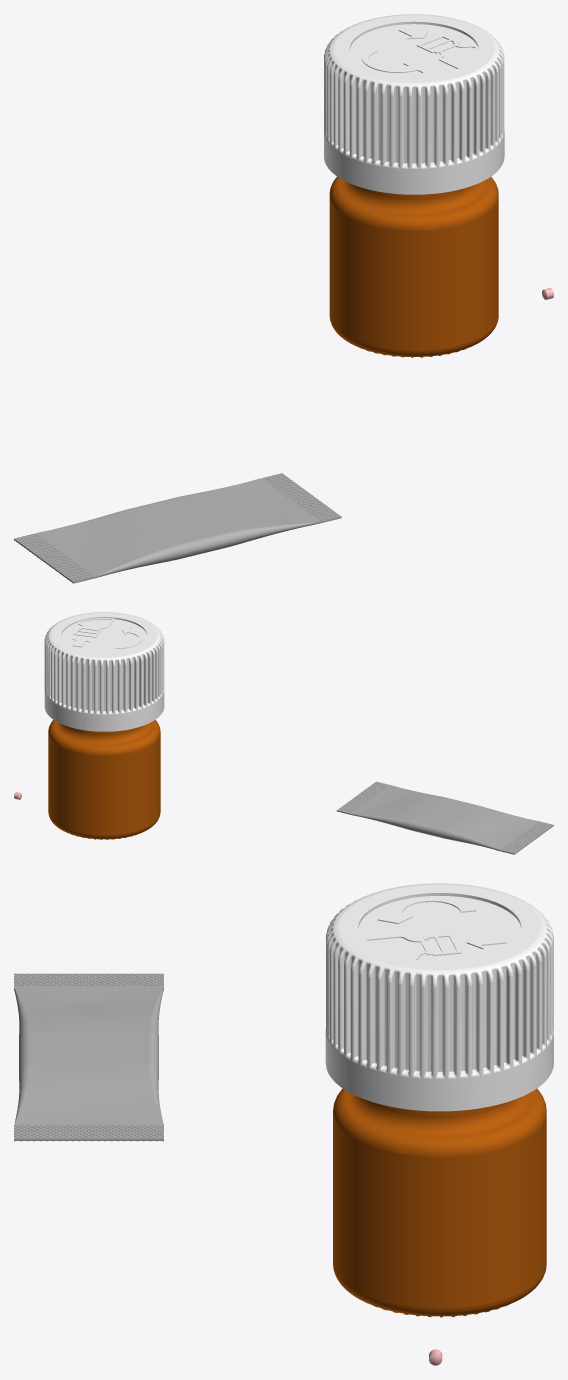
File: packageBottlePill-4.glb
3 views of the same model, one above another, from view 1: azimuth 30°, elevation 25°; view 2: azimuth 150°, elevation 25°; view 3: azimuth 270°, elevation 25° (orthographic). The views are drawn at different scales.
Parts seen in each view (by area): view 1: mesh_1, mesh_2, mesh_0; view 2: mesh_1, mesh_2, mesh_0; view 3: mesh_1, mesh_2, mesh_0.
Boxes of the visible parts, box(x1,y1,x2,y2) form: mesh_1: box(324, 14, 504, 194); mesh_2: box(329, 176, 498, 357); mesh_0: box(14, 473, 341, 583); mesh_1: box(44, 612, 164, 731); mesh_2: box(48, 720, 160, 839); mesh_0: box(336, 781, 553, 854); mesh_1: box(325, 883, 553, 1111); mesh_2: box(333, 1088, 546, 1317); mesh_0: box(14, 973, 163, 1141).
Size of the model in its own units: 0.1446 by 0.0627 by 0.0828.
